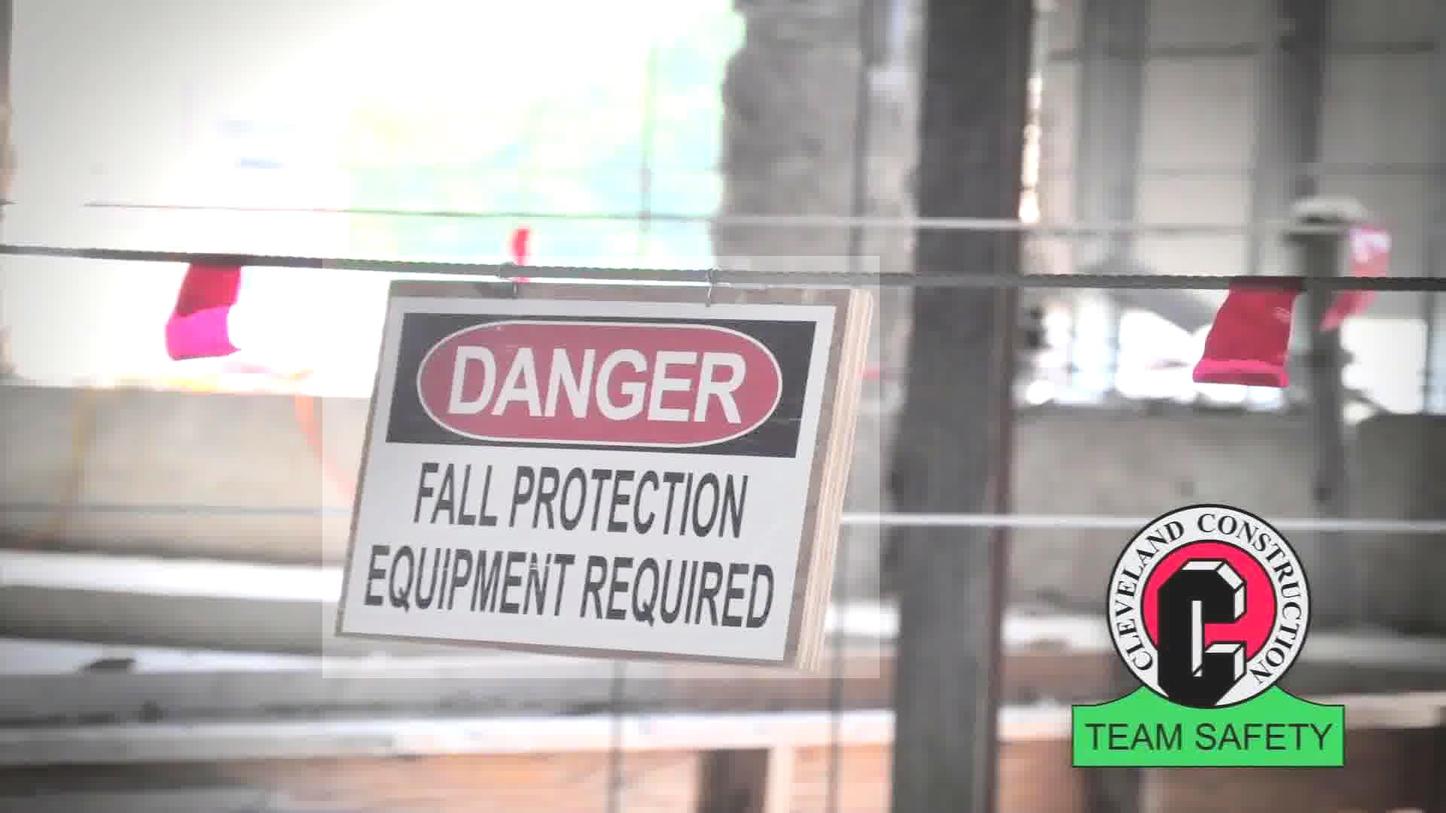safety_signage: (322, 256, 880, 678)
